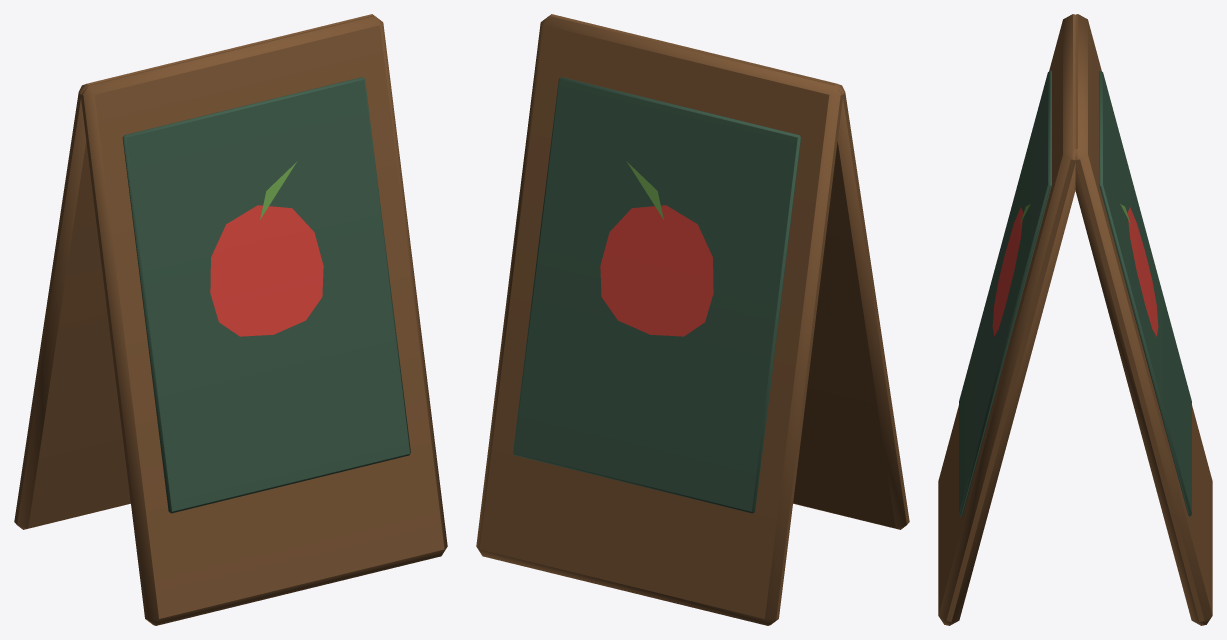
File: market-sign.glb
3 views of the same model, side by side, from view 1: azimuth 30°, elevation 25°; view 2: azimuth 150°, elevation 25°; view 3: azimuth 270°, elevation 25° (orthographic). The views are drawn at different scales.
Parts seen in each view (by area): view 1: market-sign; view 2: market-sign; view 3: market-sign.
Boxes of the visible parts, x1,y1,x2,y2 form: market-sign: (14,14,447,625); market-sign: (476,14,909,625); market-sign: (938,14,1212,625).
Size of the model in its own units: 0.62 by 0.9737 by 0.5071.
